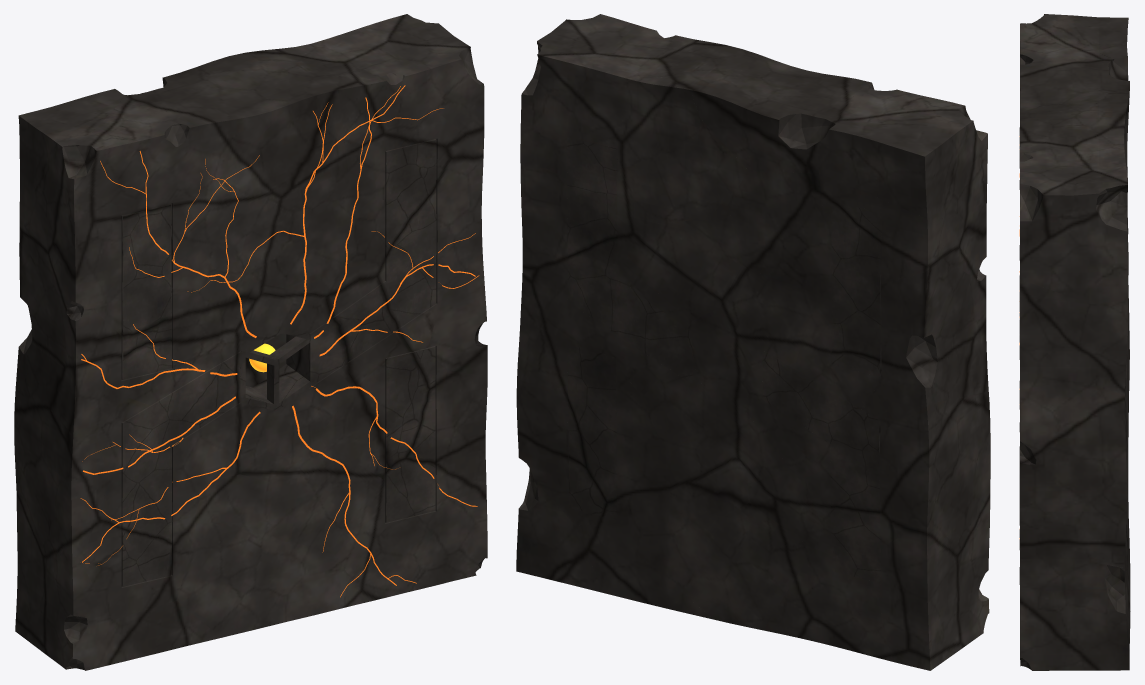
File: hyperiux-forging-assets.glb
3 renders of one model, left to right at view 1: azimuth 30°, elevation 25°; view 2: azimuth 150°, elevation 25°; view 3: azimuth 270°, elevation 25°, orthographic. The views are drawn at different scales.
Visible parts, largest first — view 1: LogoCore_Path4_UpperRight, SlabChunk_019, LogoCore_Path3_LowerLeft, SlabChunk_010, SlabChunk_006, SlabChunk_018, SlabChunk_009, SlabChunk_004, SlabChunk_025, SlabChunk_007, LogoCore_Path1_TopLeft, LogoCore_Path2_BottomRight (+40 smaller); view 2: SlabChunk_018, SlabChunk_010, SlabChunk_009, LogoCore_Path4_UpperRight, SlabChunk_004, LogoCore_Path3_LowerLeft, SlabChunk_001, SlabChunk_024, SlabChunk_033, SlabChunk_002, SlabChunk_052, LogoCore_Path1_TopLeft (+32 smaller); view 3: SlabChunk_002, SlabChunk_022, SlabChunk_014, SlabChunk_003, SlabChunk_009, SlabChunk_016, SlabChunk_010, SlabChunk_017, SlabChunk_001, SlabChunk_006, SlabChunk_019, SlabChunk_011 (+4 smaller).
Part boxes in pixels (x1,y1,x2,y2): LogoCore_Path4_UpperRight: [310, 139, 436, 386]; SlabChunk_019: [213, 70, 348, 235]; LogoCore_Path3_LowerLeft: [121, 352, 240, 586]; SlabChunk_010: [257, 28, 429, 180]; SlabChunk_006: [72, 95, 209, 217]; SlabChunk_018: [14, 371, 108, 557]; SlabChunk_009: [125, 51, 290, 184]; SlabChunk_004: [15, 507, 112, 670]; SlabChunk_025: [26, 301, 130, 437]; SlabChunk_007: [33, 187, 134, 309]; LogoCore_Path1_TopLeft: [121, 203, 171, 379]; LogoCore_Path2_BottomRight: [385, 346, 435, 522]; SlabChunk_018: [879, 392, 990, 547]; SlabChunk_010: [579, 25, 723, 169]; SlabChunk_009: [690, 59, 863, 173]; LogoCore_Path4_UpperRight: [567, 137, 693, 384]; SlabChunk_004: [873, 512, 989, 670]; LogoCore_Path3_LowerLeft: [762, 350, 881, 583]; SlabChunk_001: [819, 113, 986, 218]; SlabChunk_024: [677, 502, 812, 630]; SlabChunk_033: [728, 170, 831, 295]; SlabChunk_002: [520, 14, 635, 168]; SlabChunk_052: [617, 219, 741, 320]; LogoCore_Path1_TopLeft: [831, 201, 881, 377]; SlabChunk_002: [1020, 164, 1128, 303]; SlabChunk_022: [1019, 380, 1126, 491]; SlabChunk_014: [1019, 475, 1127, 591]; SlabChunk_003: [1020, 582, 1129, 670]; SlabChunk_009: [1020, 59, 1129, 147]; SlabChunk_016: [1020, 293, 1089, 389]; SlabChunk_010: [1020, 116, 1125, 169]; SlabChunk_017: [1076, 300, 1128, 394]; SlabChunk_001: [1037, 14, 1128, 71]; SlabChunk_006: [1019, 20, 1112, 129]; SlabChunk_019: [1019, 111, 1126, 168]; SlabChunk_011: [1020, 279, 1090, 304].
Size of the model in its own units: 10.05 by 12.05 by 2.53.
8 materials, 2 textured.
